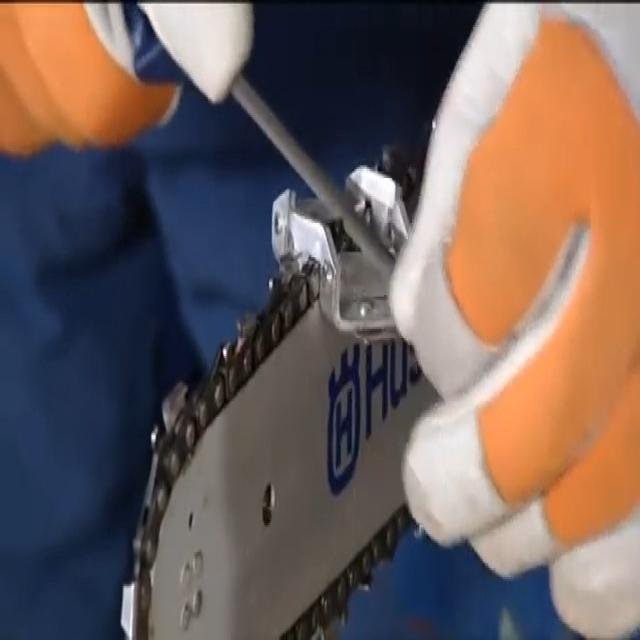Chainsaw: (114, 127, 462, 640)
